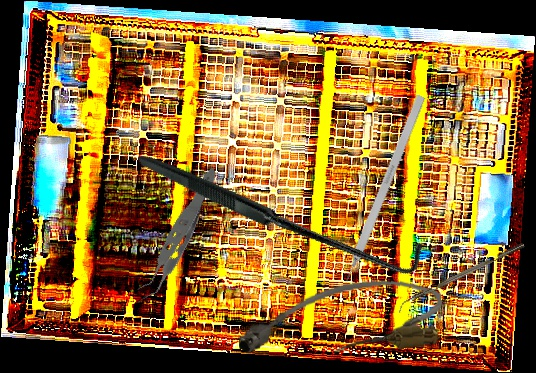Cannula: (233, 273, 447, 366)
Chopper: (394, 242, 528, 314)
Hook Surgical: (136, 59, 432, 361), (336, 94, 427, 296)
Tissue Forceps: (97, 167, 253, 304)
